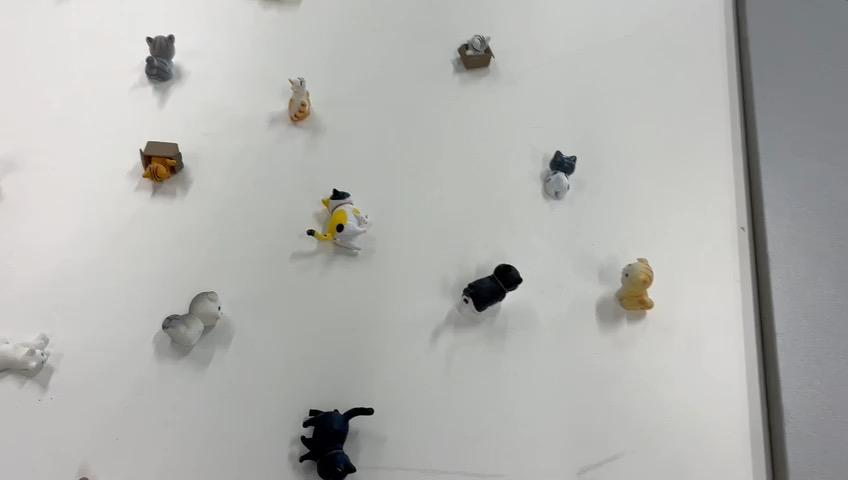pet: (298, 402, 376, 480), (304, 184, 371, 256), (159, 287, 224, 355), (460, 259, 524, 316), (133, 135, 189, 187), (616, 254, 660, 316), (140, 29, 180, 86), (542, 148, 581, 203), (454, 30, 500, 75), (283, 72, 315, 129)
